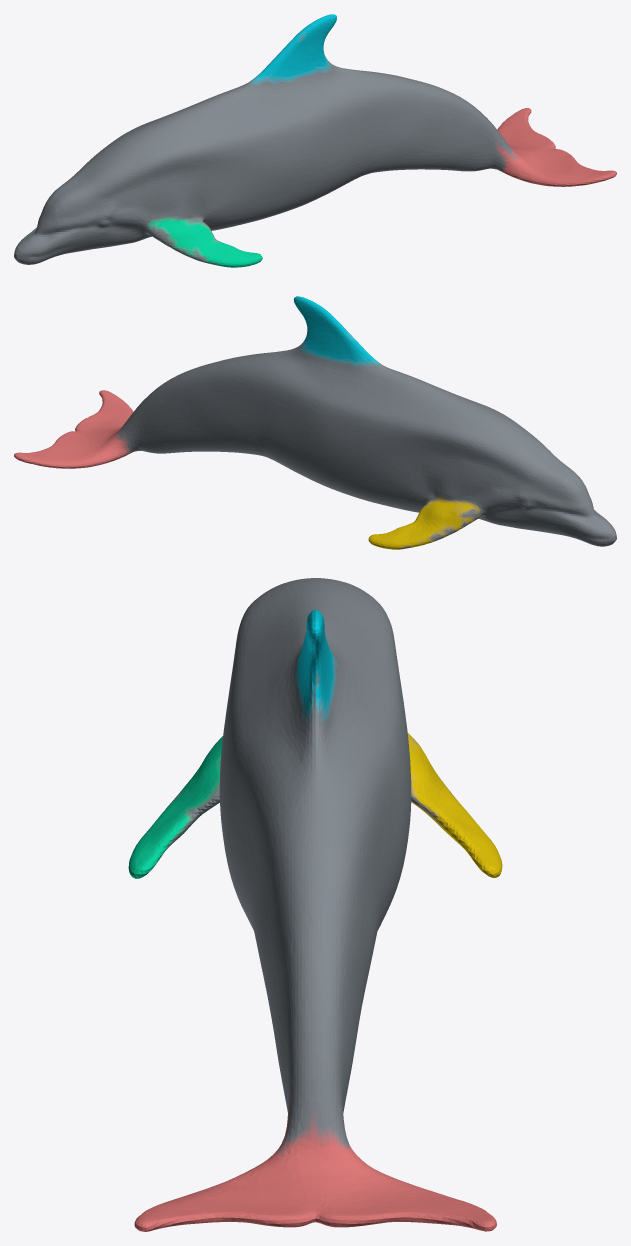
File: dolphin_segmented.glb
3 renders of one model, top to bottom at view 1: azimuth 30°, elevation 25°; view 2: azimuth 150°, elevation 25°; view 3: azimuth 270°, elevation 25°, orthographic. The views are drawn at different scales.
Parts seen in each view (by area): view 1: world; view 2: world; view 3: world.
Part boxes in pixels (x1,y1,x2,y2): world: [14, 14, 616, 267]; world: [14, 296, 616, 549]; world: [128, 578, 502, 1231].
Size of the model in its own units: 1.81 by 0.6137 by 0.523.
